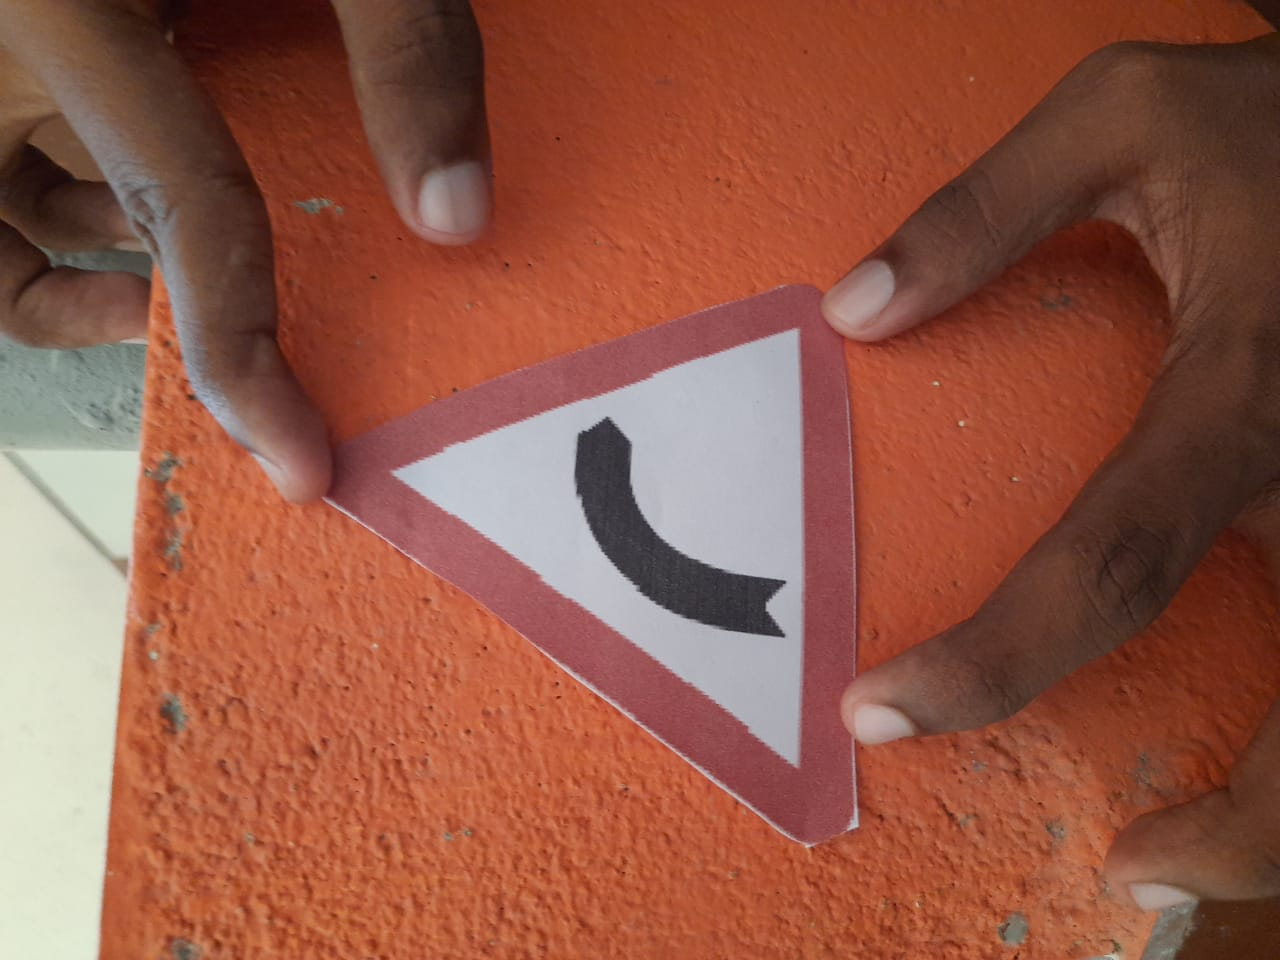RIGHT CURVE: (273, 231, 903, 851)
